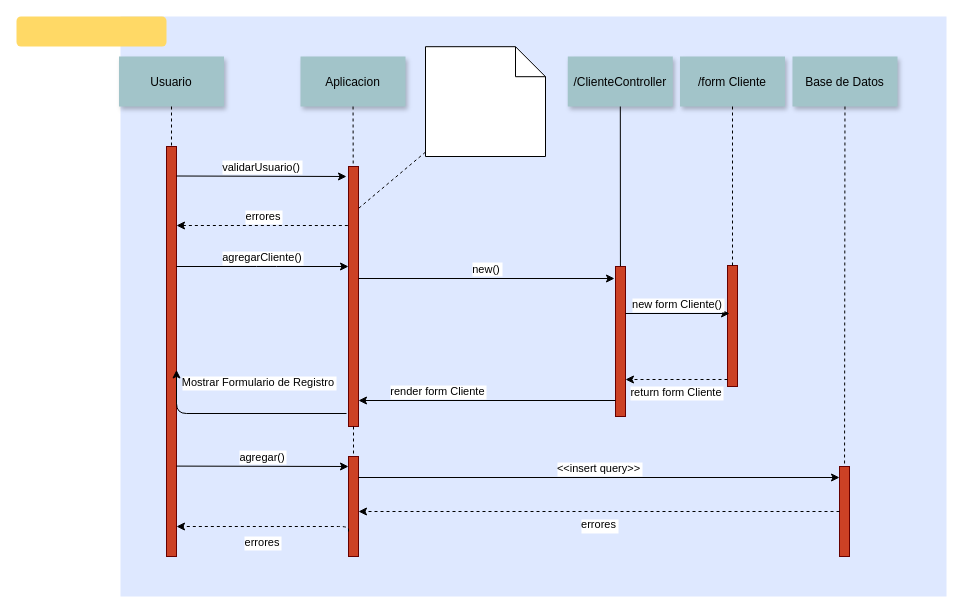
Some shapes in this 963 by 613 pixel diagram are drawn without their labels. The shapes that lost their labels are listed below. From the top down, each one's centre as x and y in pixels, then its label:
At pixel 91 31: "agregarCliente();".
At pixel 485 101: "- validación de usuario - validación de contraseña".
